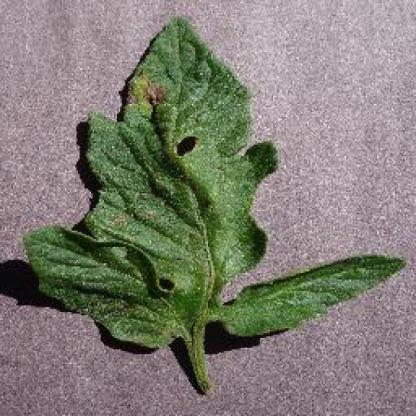Tomato_Blight: (25, 17, 404, 345)
